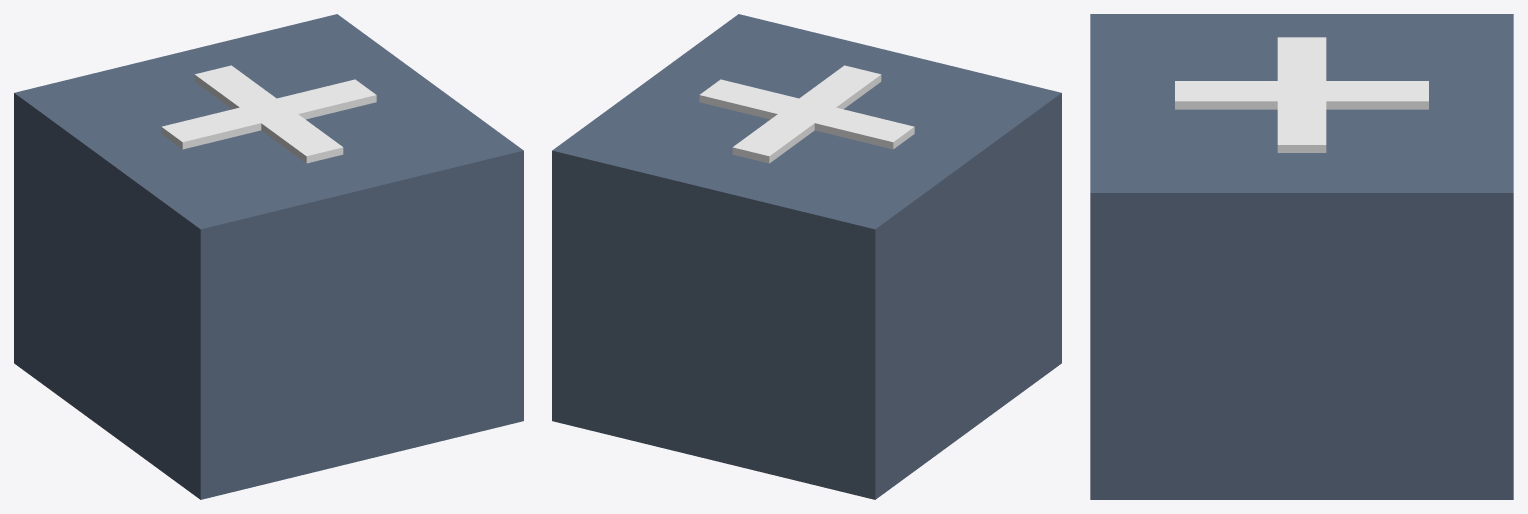
The model's file is block.glb.
The picture shows the model from 3 angles, left to right: view 1: azimuth 30°, elevation 25°; view 2: azimuth 150°, elevation 25°; view 3: azimuth 270°, elevation 25°; orthographic projection. The views are drawn at different scales.
Parts seen in each view (by area): view 1: block.obstacle, block.cross-z, block.cross-x; view 2: block.obstacle, block.cross-x, block.cross-z; view 3: block.obstacle, block.cross-z, block.cross-x.
Boxes of the visible parts, box(x1,y1,x2,y2) form: block.obstacle: box(14, 14, 523, 499); block.cross-z: box(194, 65, 343, 163); block.cross-x: box(161, 79, 376, 149); block.obstacle: box(552, 14, 1061, 499); block.cross-x: box(699, 79, 914, 149); block.cross-z: box(732, 65, 881, 163); block.obstacle: box(1090, 14, 1513, 499); block.cross-z: box(1175, 81, 1428, 109); block.cross-x: box(1277, 37, 1326, 152).
Bounding box in the file's own units: 0.7 × 0.5825 × 0.7.
